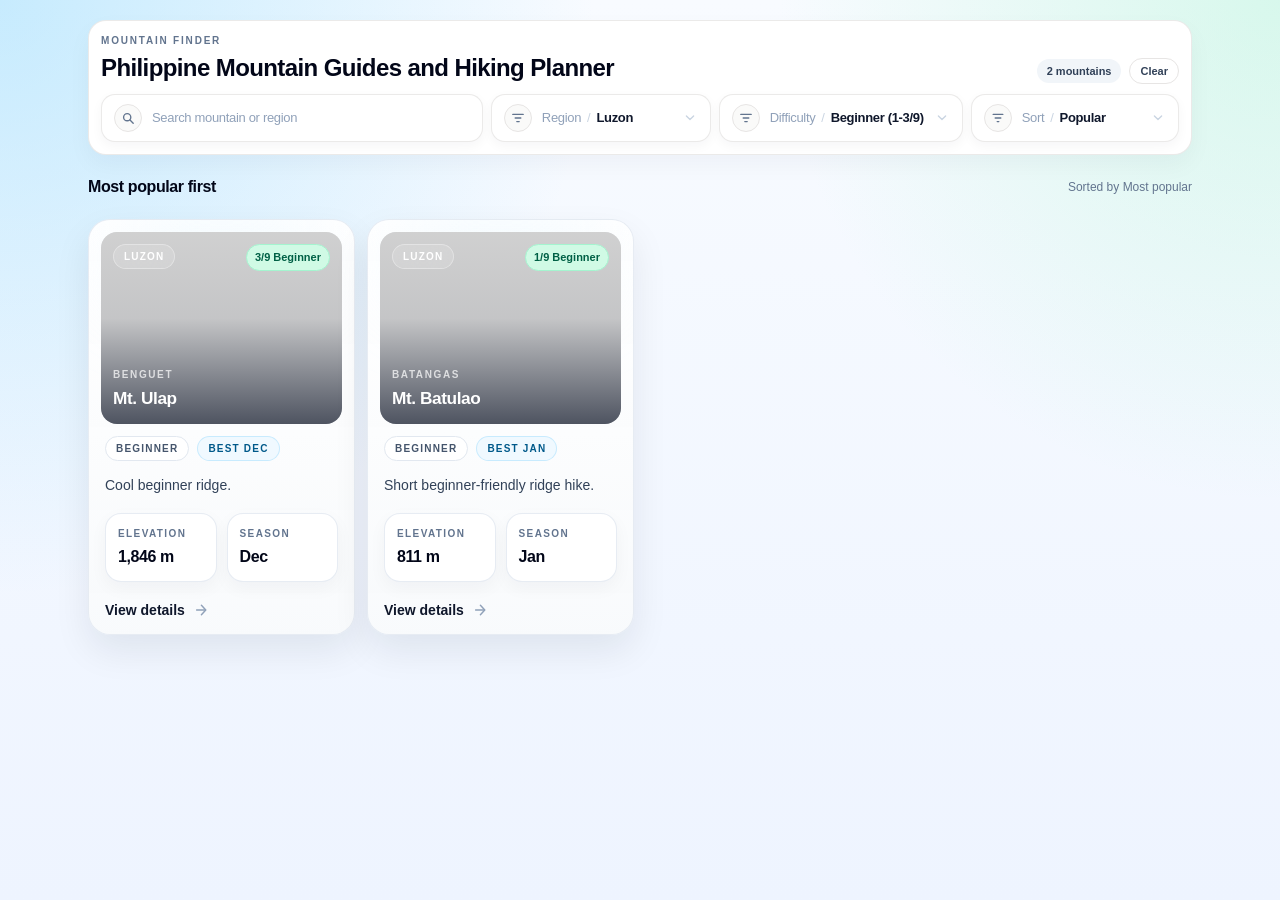
MountainListClient › still lets users change region after the lighter first-load defaults
Step 1. Click the button with aria-label "Filter by region" → (601, 118), box [491,94,711,142]
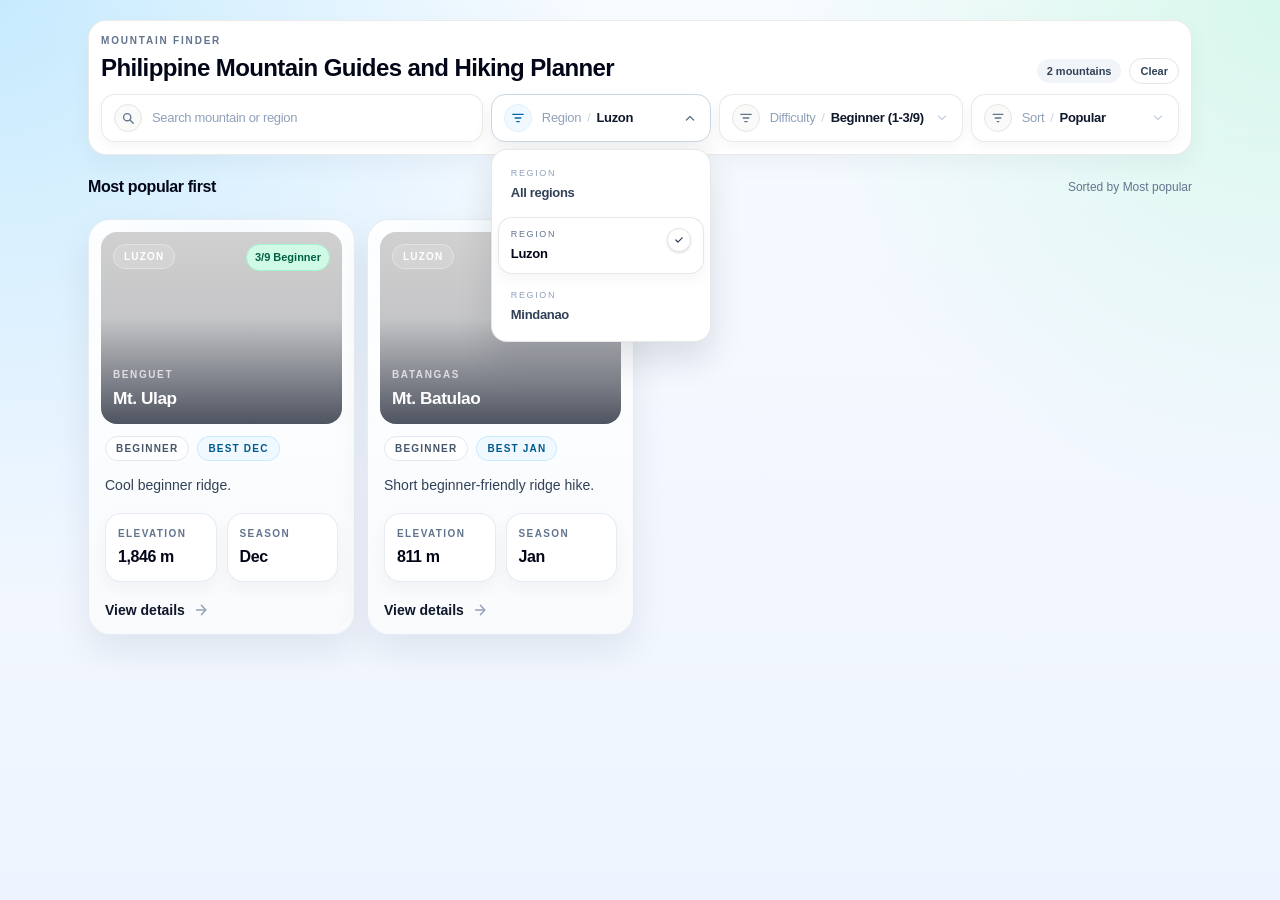
Step 2. Click the menu item "Region Mindanao" → (601, 307), box [498,278,704,335]
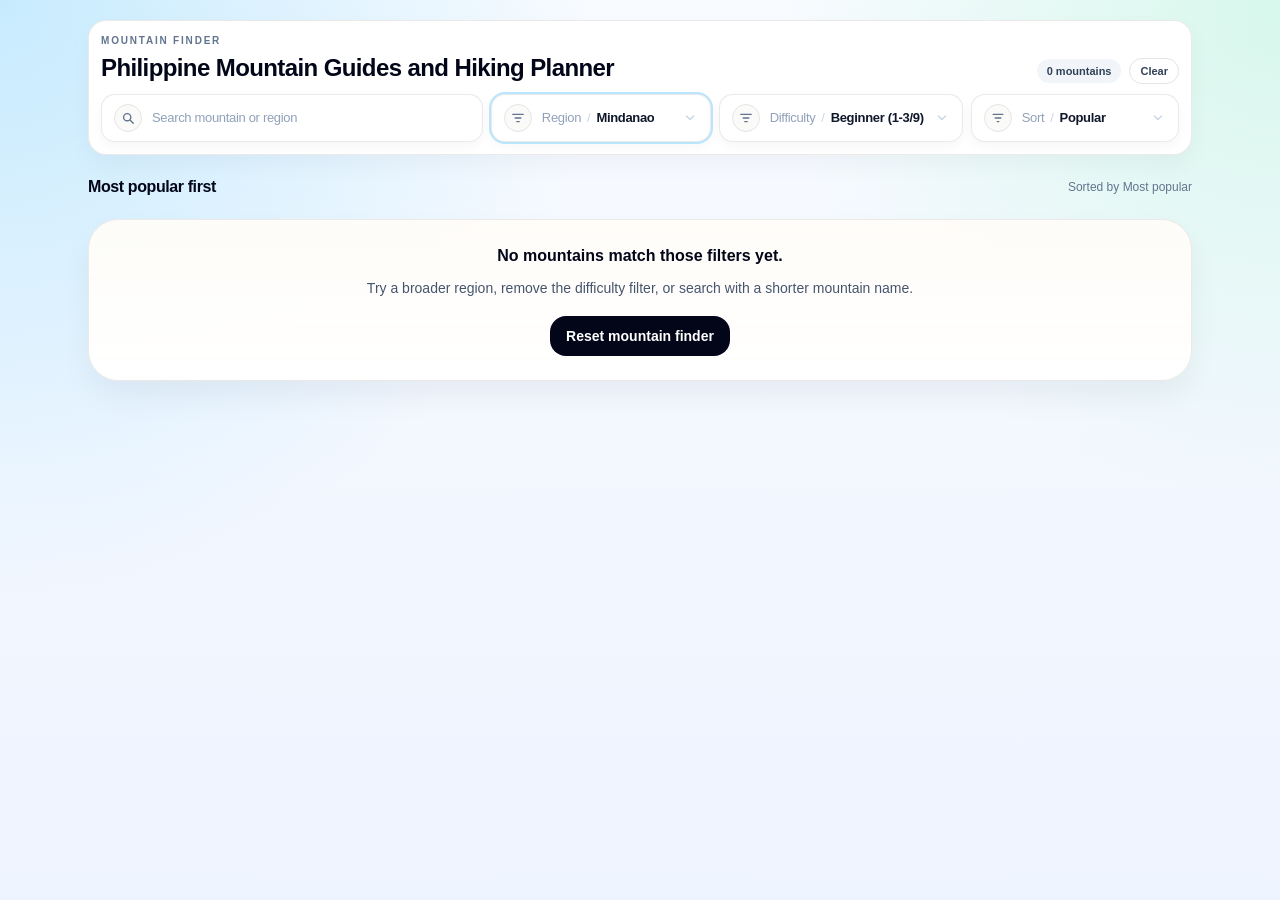
expect the heading "Mt. Ulap" is gone: met
expect the heading "Mt. Batulao" is gone: met
Step 3. Click the button with aria-label "Filter by difficulty" → (841, 118), box [719,94,963,142]
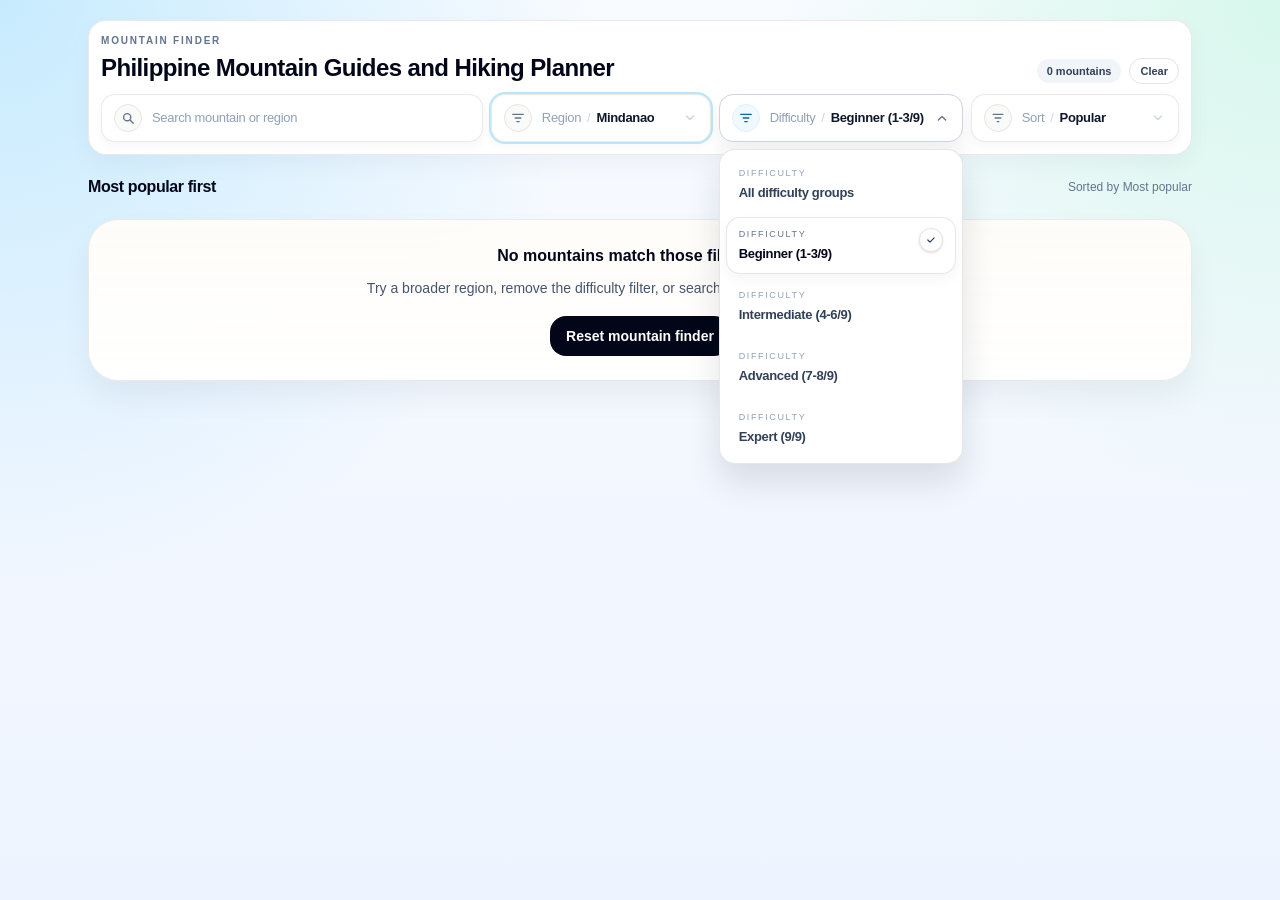
Step 4. Click the menu item "Difficulty All difficulty groups" → (841, 185), box [726,156,956,213]
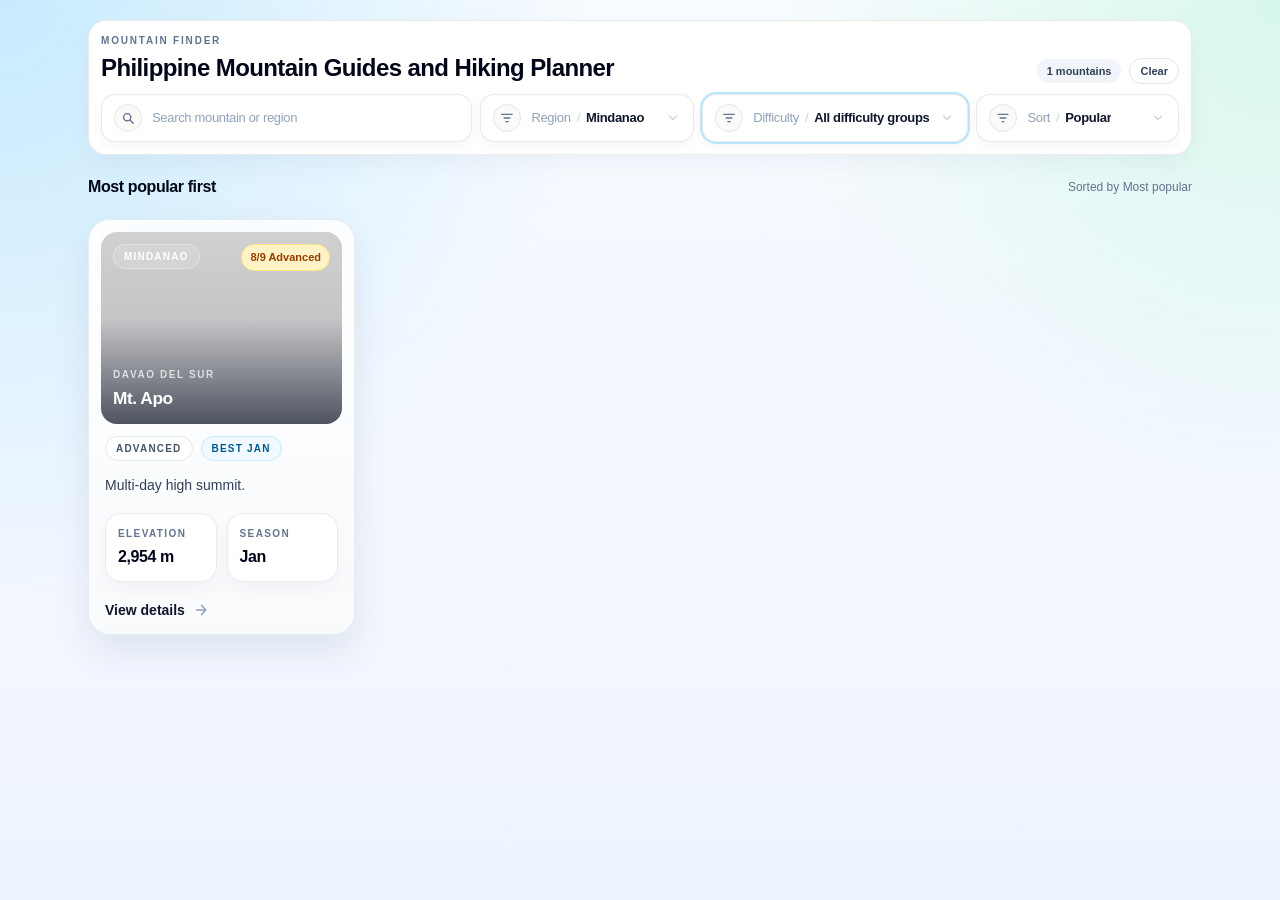
expect the heading "Mt. Apo" is shown: met, box [113,388,173,408]
